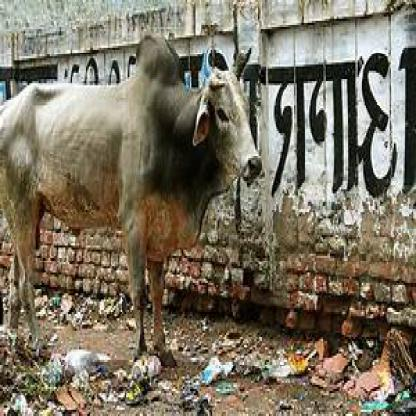cow: (1, 31, 261, 360)
